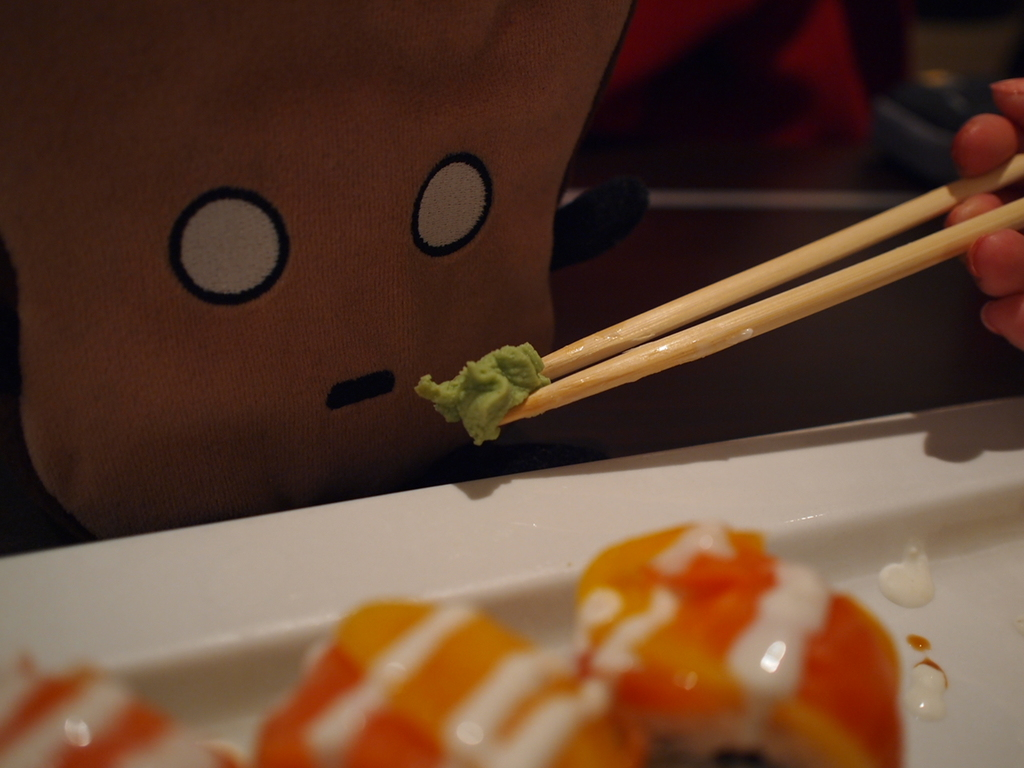sushi: (367, 518, 920, 768)
